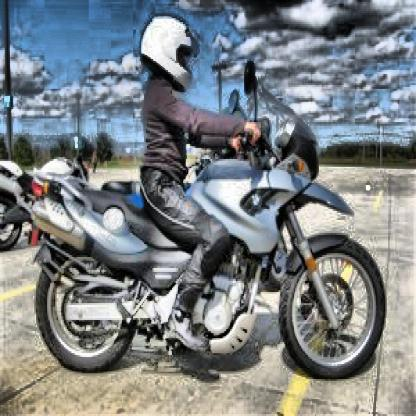wear: (144, 18, 198, 96)
